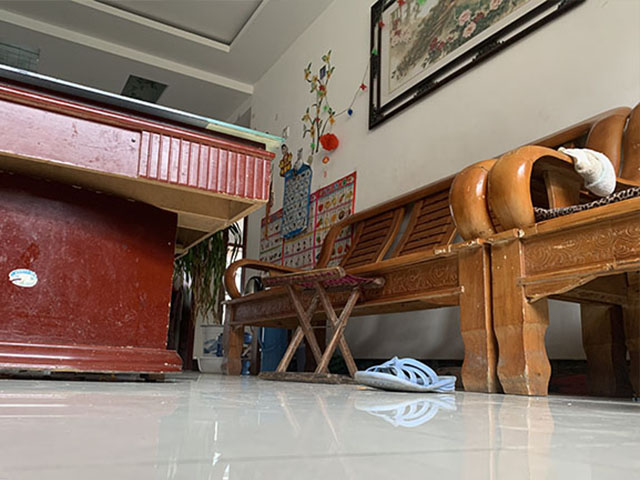slippers: (353, 354, 458, 395)
sofa: (222, 98, 626, 399)
stool: (256, 265, 383, 387)
table: (1, 61, 288, 387)
